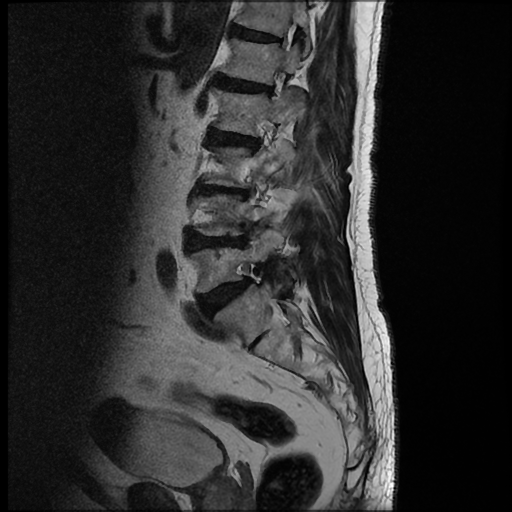LFS0: (258, 63, 296, 111), (227, 250, 266, 294)
